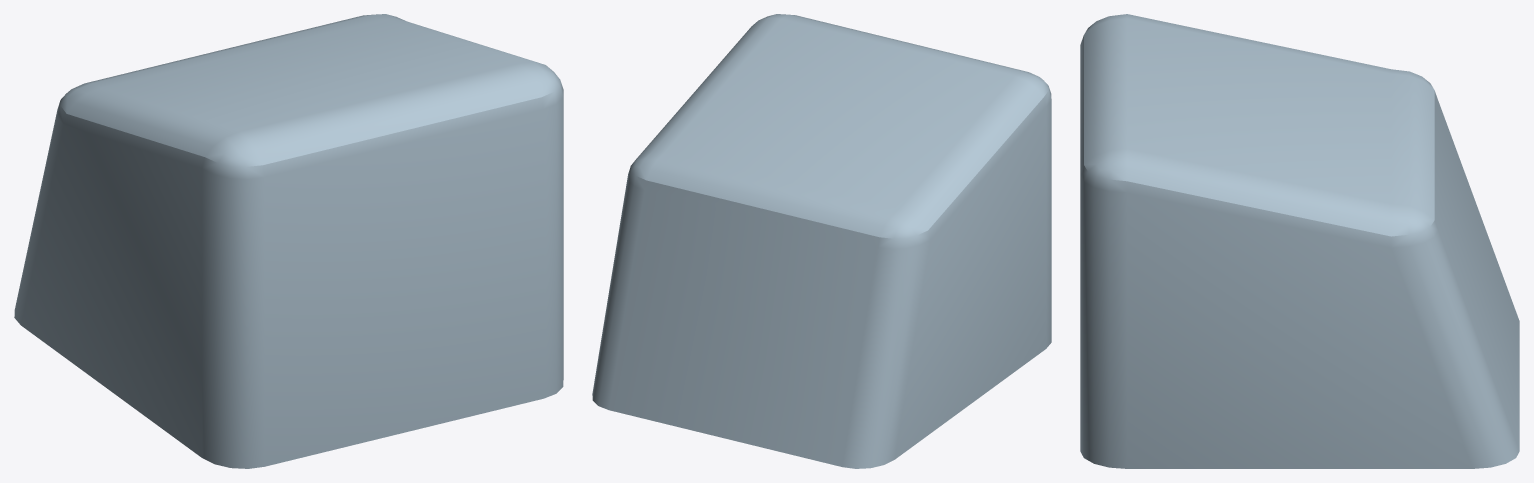
The model's file is MSH_Boss_Turret.fbx.
3 renders of one model, left to right at view 1: azimuth 30°, elevation 25°; view 2: azimuth 150°, elevation 25°; view 3: azimuth 270°, elevation 25°, orthographic. The views are drawn at different scales.
Visible parts, largest first — view 1: MSH_Tank_Turret_Base; view 2: MSH_Tank_Turret_Base; view 3: MSH_Tank_Turret_Base.
Part boxes in pixels (x1=…): MSH_Tank_Turret_Base: x1=14, y1=14, x2=563, y2=468; MSH_Tank_Turret_Base: x1=592, y1=14, x2=1051, y2=468; MSH_Tank_Turret_Base: x1=1080, y1=14, x2=1519, y2=468.
Bounding box in the file's own units: 207 × 177 × 232.
